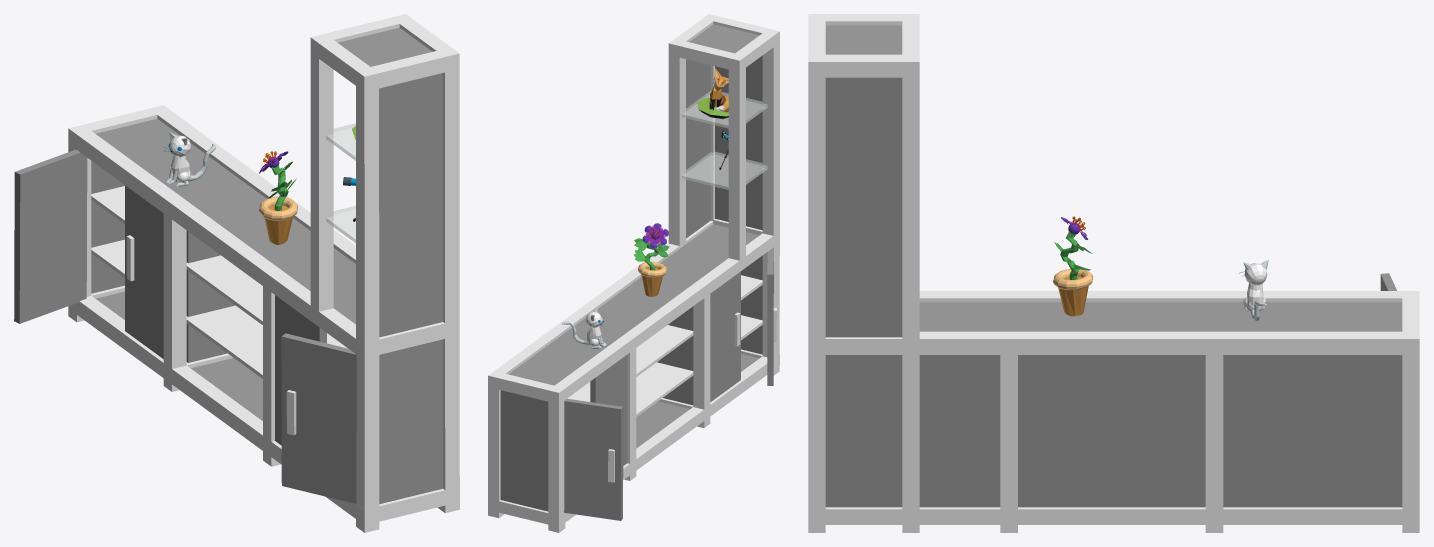
The model's file is Woonkamerkast by Vincent van de Goolberg - 70n22Lhssat.glb.
3 views of the same model, side by side, from view 1: azimuth 30°, elevation 25°; view 2: azimuth 150°, elevation 25°; view 3: azimuth 270°, elevation 25° (orthographic). The views are drawn at different scales.
Visible parts, largest first — view 1: group478449617, group589791205, group148243999, group1912247205, group849114430, group807479604, group1416141059, group1738272056, group1882484594, group1428809933, group1098463726, group1270128042 (+23 smaller); view 2: group1912247205, group148243999, group1236352214, group478449617, group1287545739, group1738272056, group880702567, group1416141059, group1882484594, group1937829644, group1428809933, group359950436 (+26 smaller); view 3: group26477869, group1287545739, group1912247205, group206608989, group1120803655, group807479604, group880702567, group1882484594, group547562503, group265243490, group1684251747, group1630523855 (+8 smaller).
Part boxes in pixels (x1,y1,x2,y2): group478449617: [379, 73, 442, 337]; group589791205: [281, 333, 356, 503]; group148243999: [14, 149, 87, 323]; group1912247205: [95, 118, 355, 324]; group849114430: [379, 339, 442, 504]; group807479604: [437, 47, 459, 513]; group1416141059: [356, 86, 379, 360]; group1738272056: [310, 34, 333, 311]; group1882484594: [70, 126, 279, 287]; group1428809933: [77, 296, 364, 524]; group1098463726: [125, 185, 163, 358]; group1270128042: [356, 355, 379, 532]; group1912247205: [508, 224, 759, 385]; group148243999: [564, 398, 623, 520]; group1236352214: [500, 390, 548, 511]; group478449617: [715, 55, 762, 230]; group1287545739: [686, 59, 710, 238]; group1738272056: [728, 53, 745, 260]; group880702567: [668, 55, 685, 245]; group1416141059: [762, 43, 779, 235]; group1882484594: [550, 283, 705, 402]; group1937829644: [710, 271, 740, 401]; group1428809933: [565, 354, 779, 522]; group359950436: [548, 387, 565, 532]; group26477869: [825, 355, 1402, 507]; group1287545739: [825, 77, 902, 337]; group1912247205: [919, 302, 1402, 331]; group206608989: [825, 331, 1402, 354]; group1120803655: [825, 507, 1402, 524]; group807479604: [808, 54, 825, 532]; group880702567: [902, 77, 919, 532]; group1882484594: [1013, 291, 1415, 302]; group547562503: [1000, 331, 1017, 532]; group265243490: [1205, 331, 1223, 532]; group1684251747: [1402, 355, 1419, 532]; group1630523855: [825, 25, 902, 54].
Bounding box in the file's own units: 0.4477 × 1.2 × 1.4.
